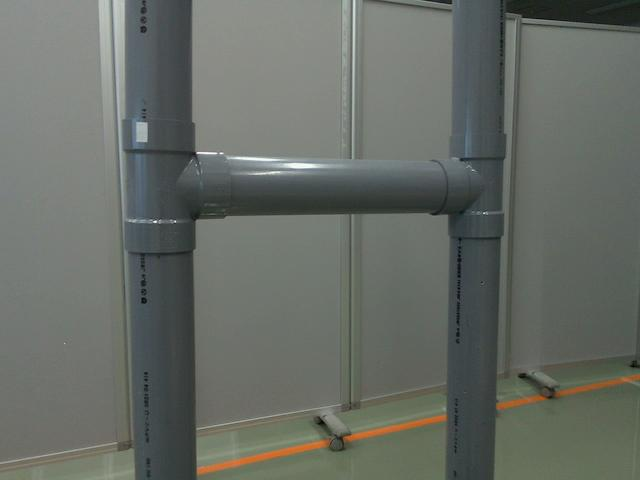junction: (110, 117, 230, 260), (422, 136, 506, 242)
